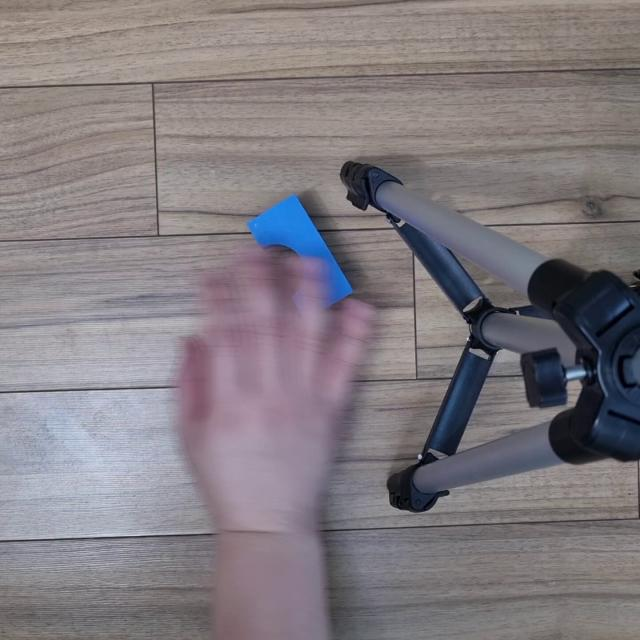block: (252, 197, 353, 315)
hand: (172, 247, 375, 537)
